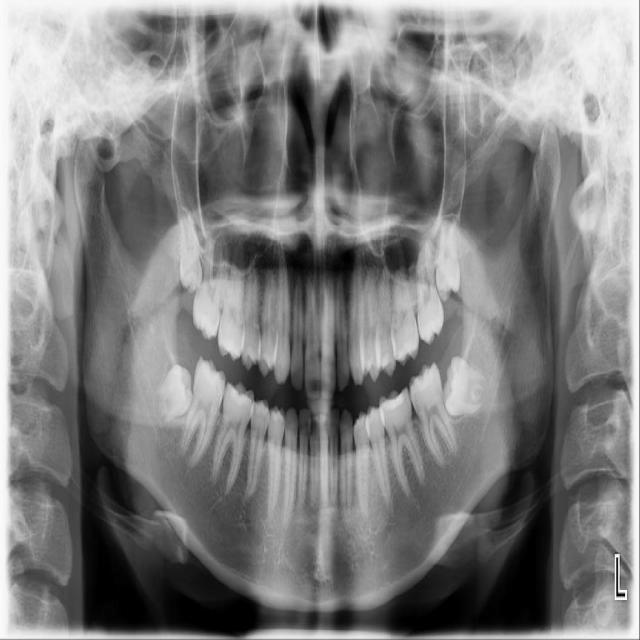impacted tooth: (444, 358, 489, 416), (155, 365, 192, 426), (434, 219, 460, 297), (180, 208, 201, 294)
